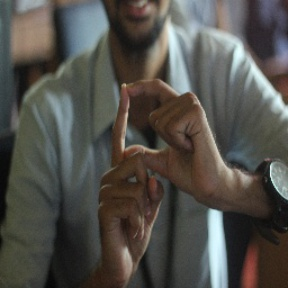D: (99, 75, 206, 188)
